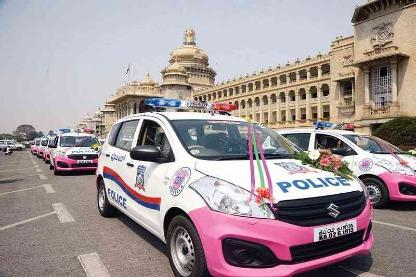priority: (93, 98, 374, 274), (46, 126, 110, 179)
